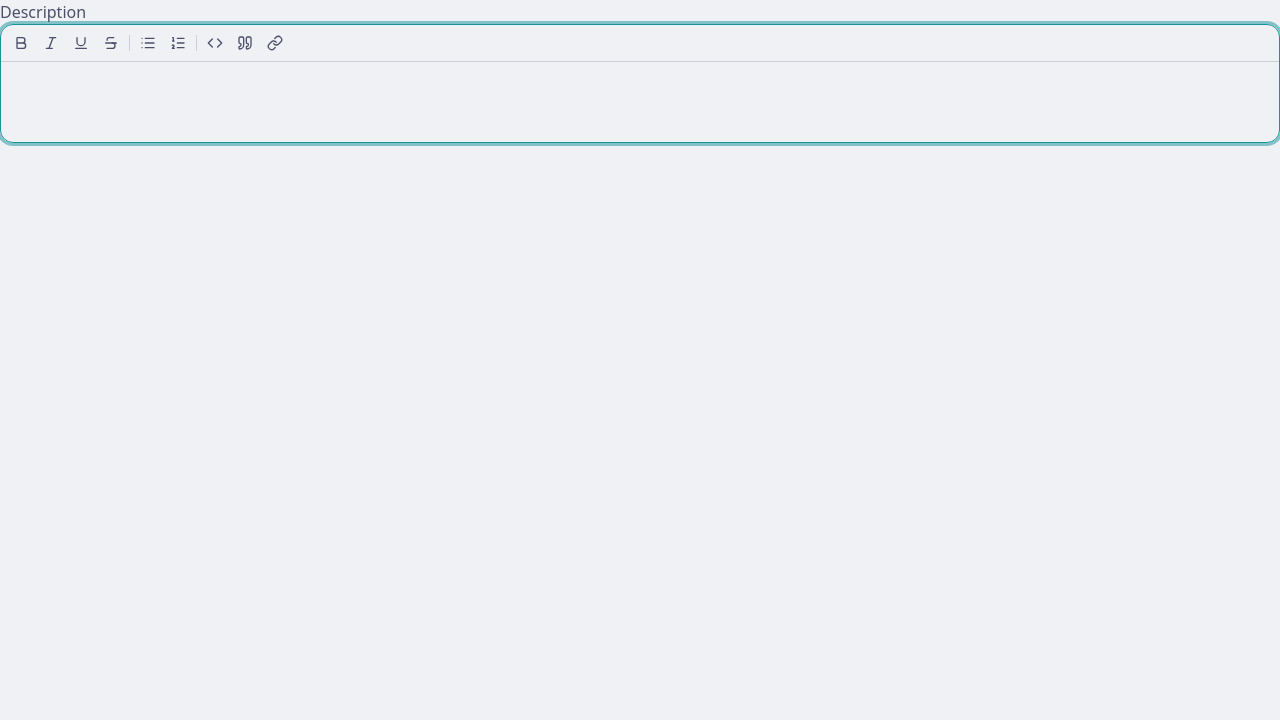
RichTextEditor › links › refuses tel:+31201234567, which the server would strip
The width and height of the screenshot is (1280, 720).
Type keys "towels"
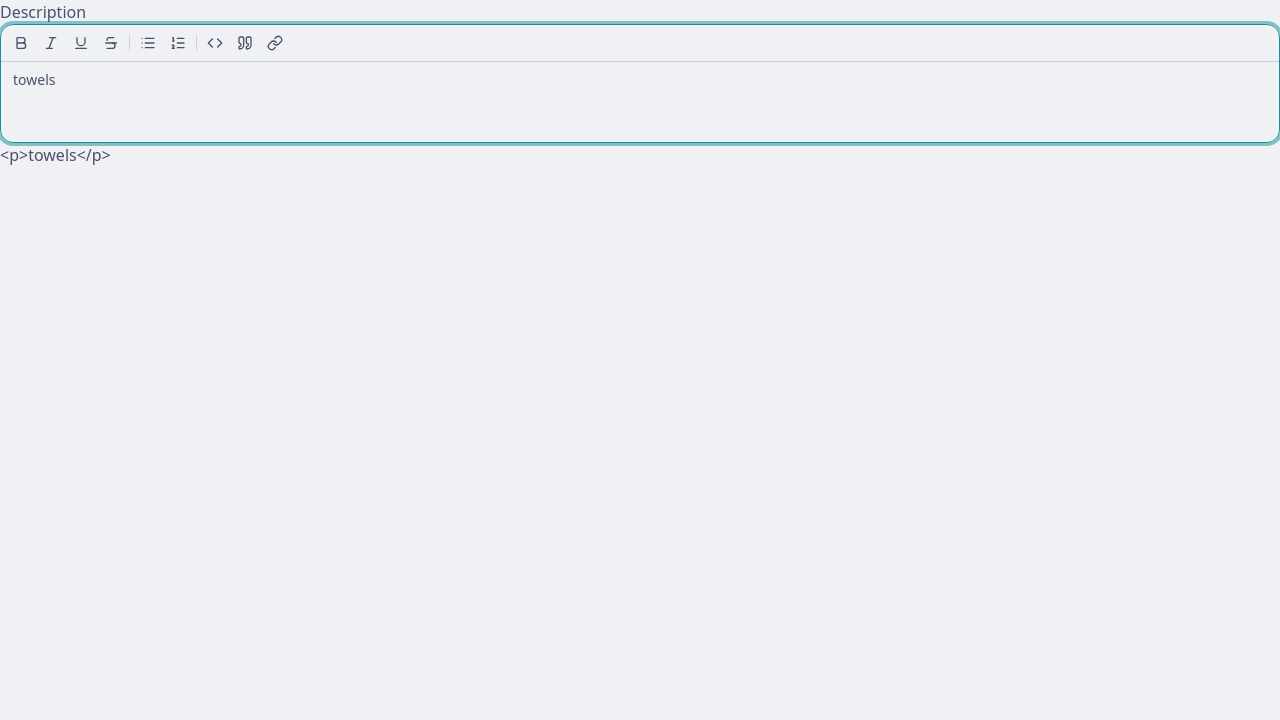
Type keys "{Control>}a{/Control}"
Click the button named "Link": [275, 43] box [261,29,289,57]
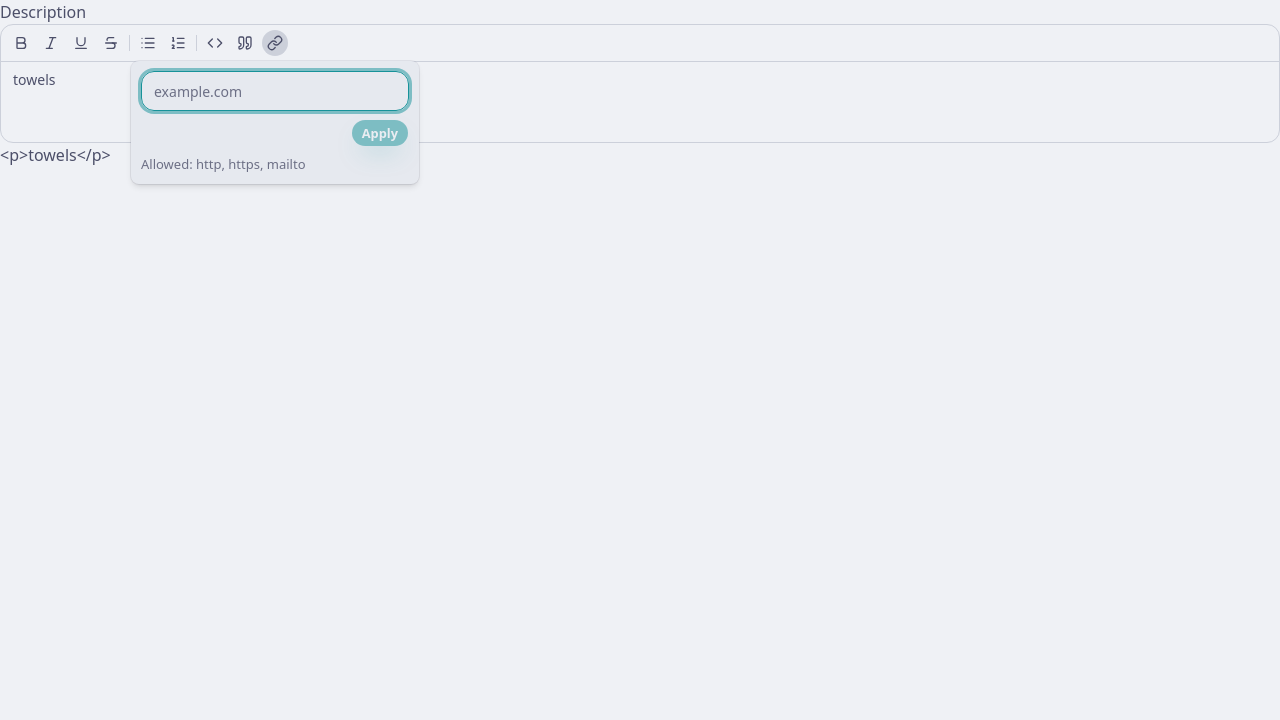
In the field named "Link address": [275, 91] box [141,71,409,111], type "tel:+31201234567"
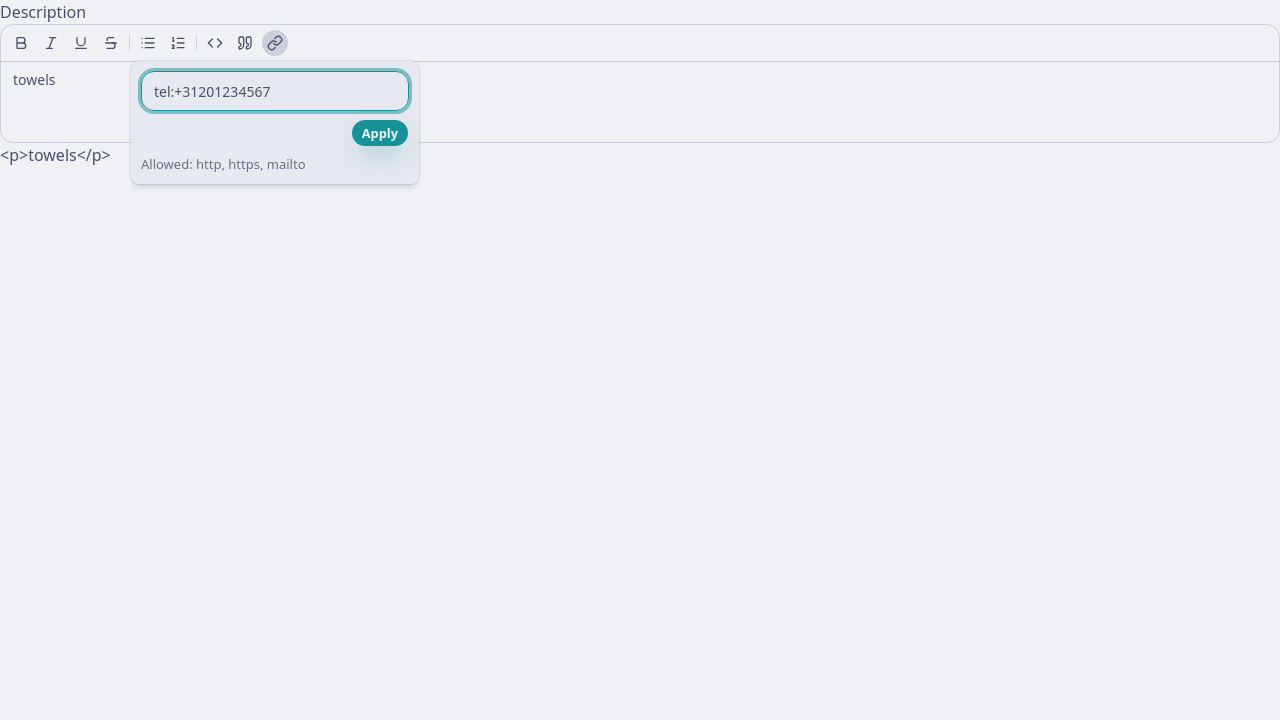
Click the button "Apply": [380, 133] box [351,119,409,147]
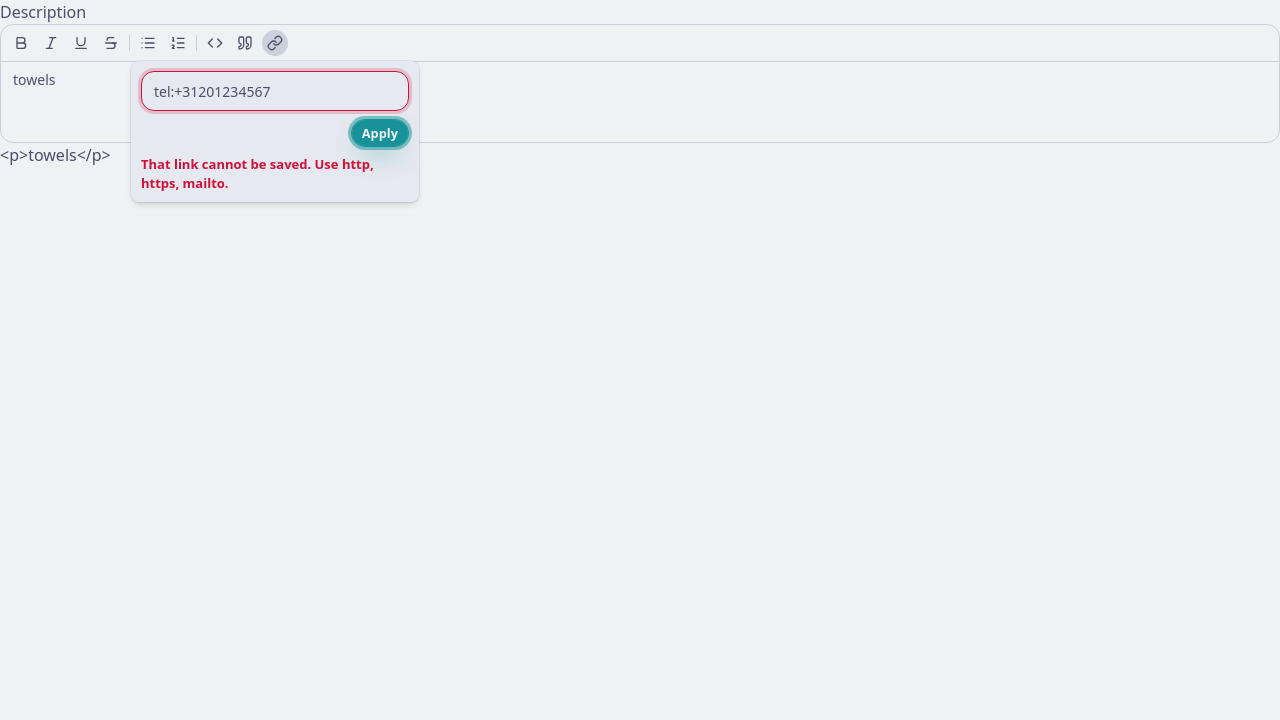
Expected: the dialog is shown, [131,61,419,202]
Expected: the message reads "That link cannot be saved. Use http, https, mailto.", [141,155,374,192]
